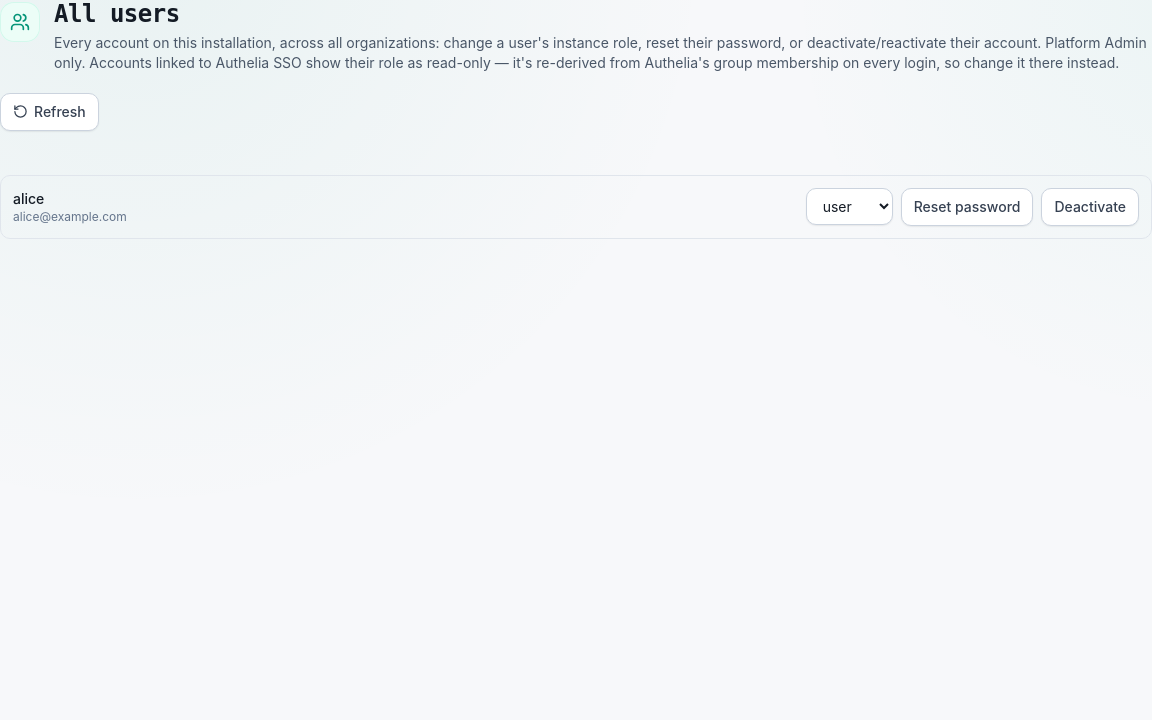
Scenario: UsersPage › reset password (#1776) › generates a temporary password and shows it once with a copy button
Expected: the text "alice" is shown, [13, 190, 44, 207]
Click the button "Reset password".
click(967, 207)  # box [901, 188, 1033, 226]
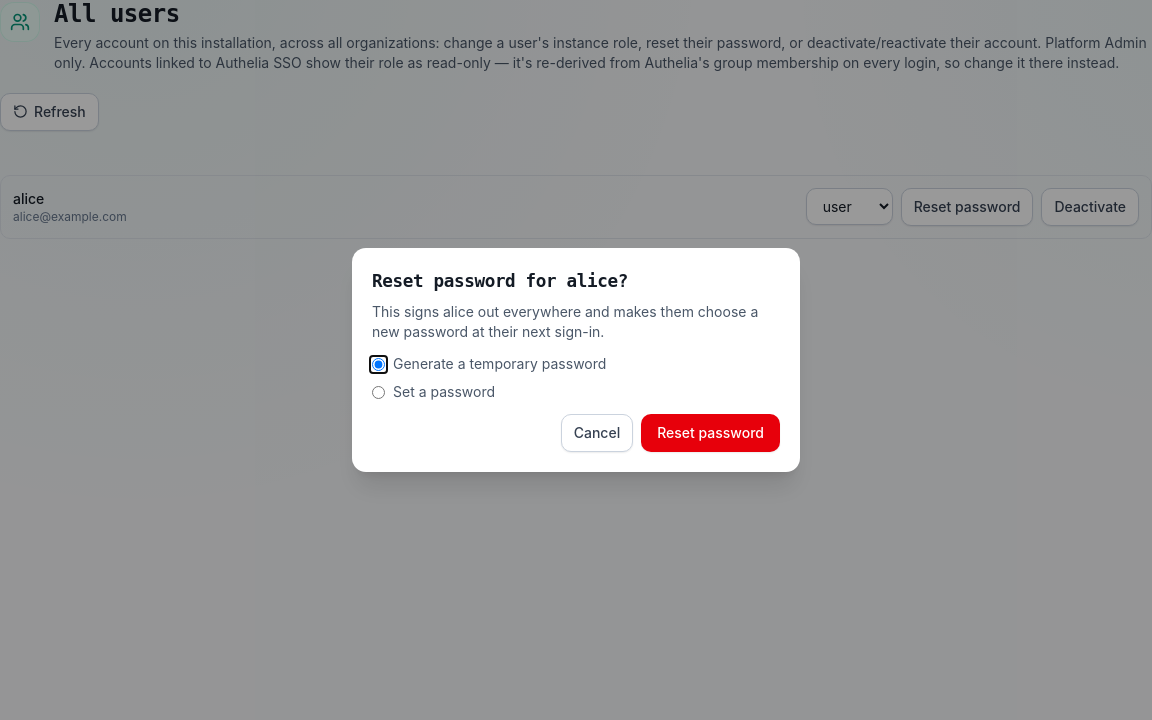
Click the button "Reset password".
click(711, 433)  # box [641, 414, 780, 452]
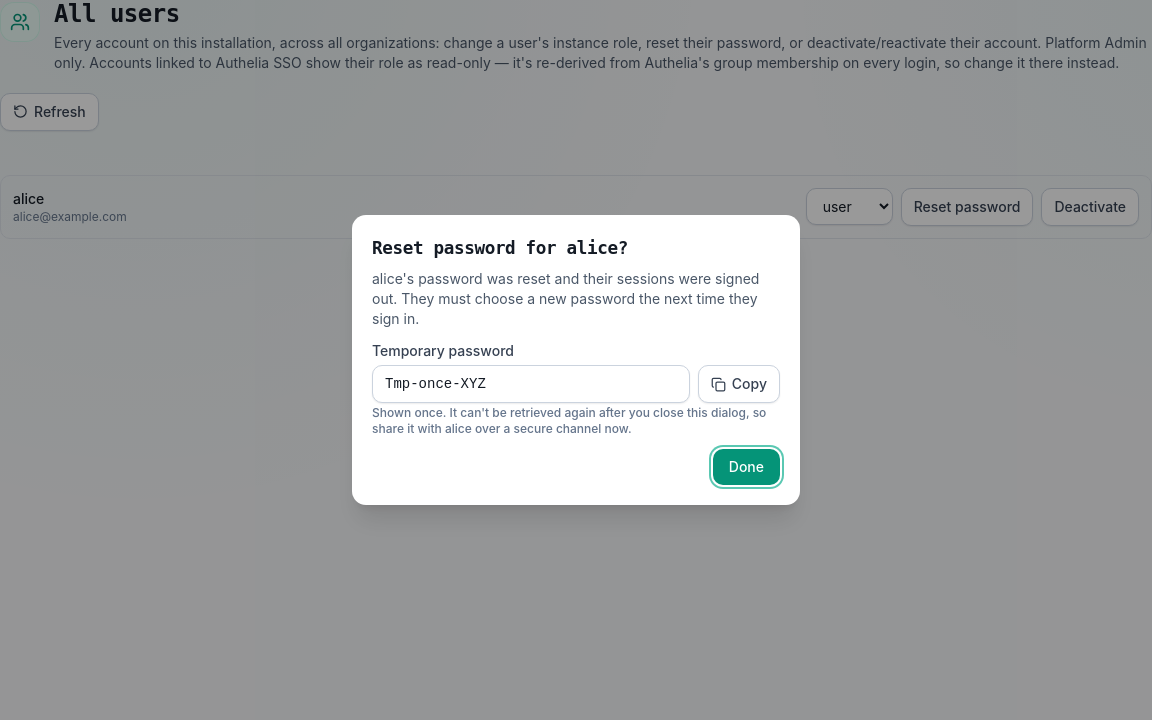
Result: the field labelled "Temporary password" holds "Tmp-once-XYZ" at [372, 365, 690, 403]
Result: the text "Shown once" is shown at [372, 405, 766, 436]
Click the button "Copy".
click(739, 384)  # box [698, 365, 780, 403]
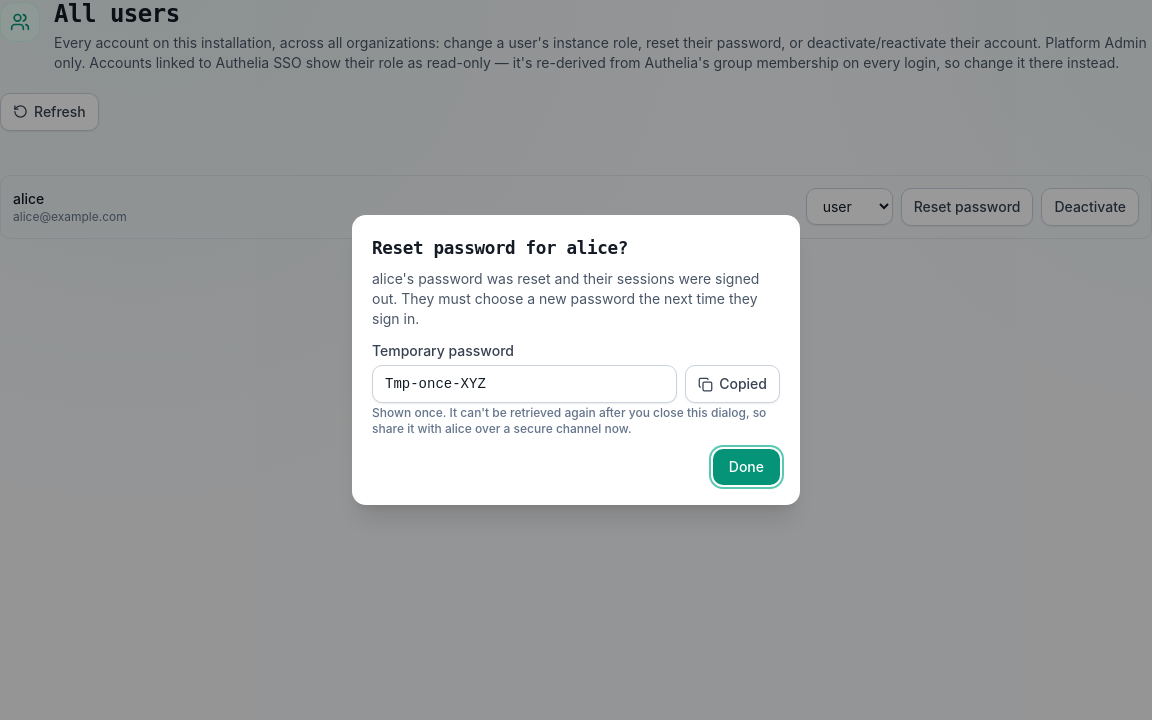
Result: the button "Copied" is shown at [685, 365, 780, 403]
Click the button "Done".
click(746, 467)  # box [713, 449, 780, 485]
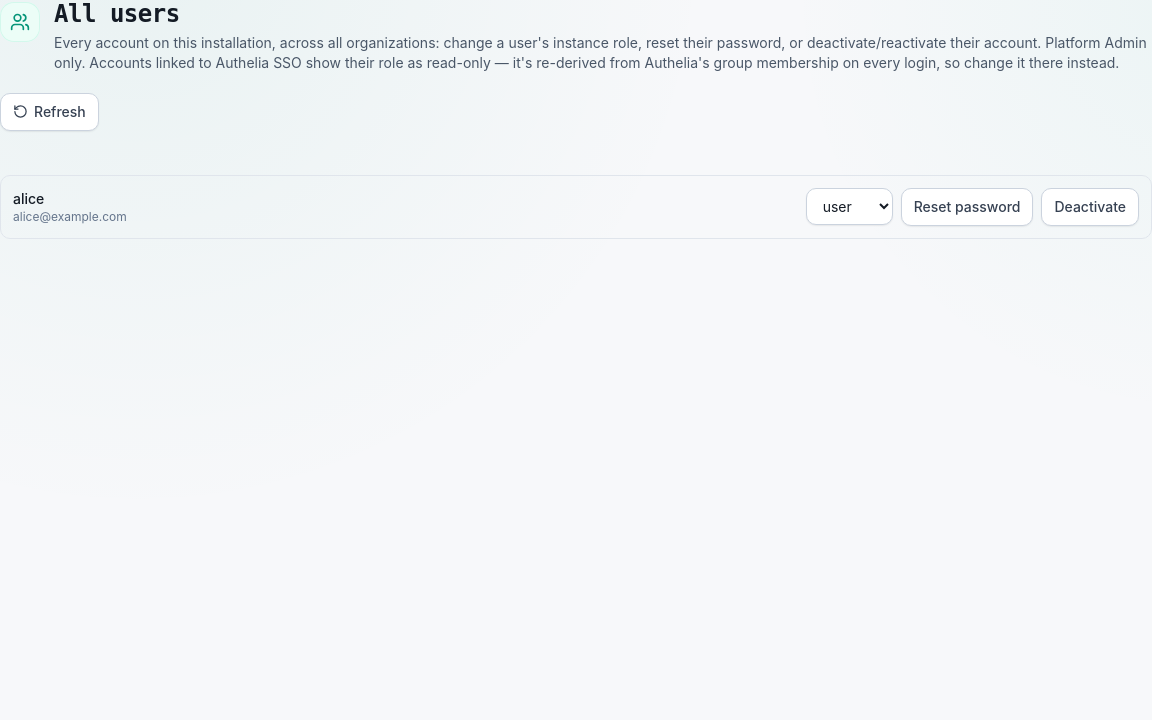
Expected: the field showing "Tmp-once-XYZ" is not shown
Result: the dialog is gone
